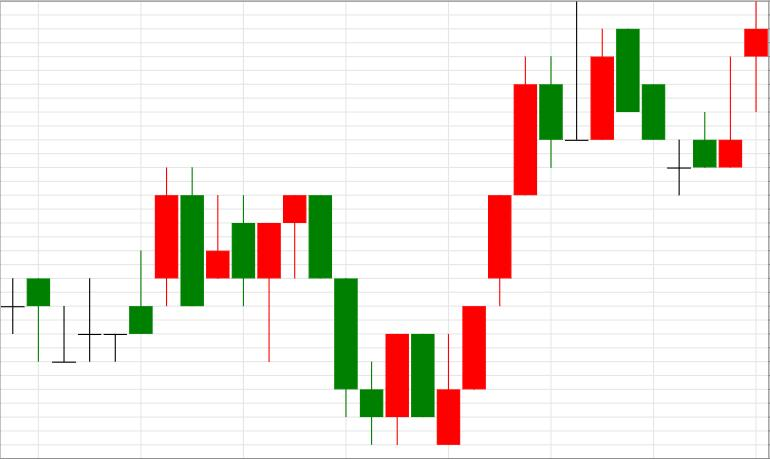three_white_soldiers_rise: (309, 54, 537, 446)
